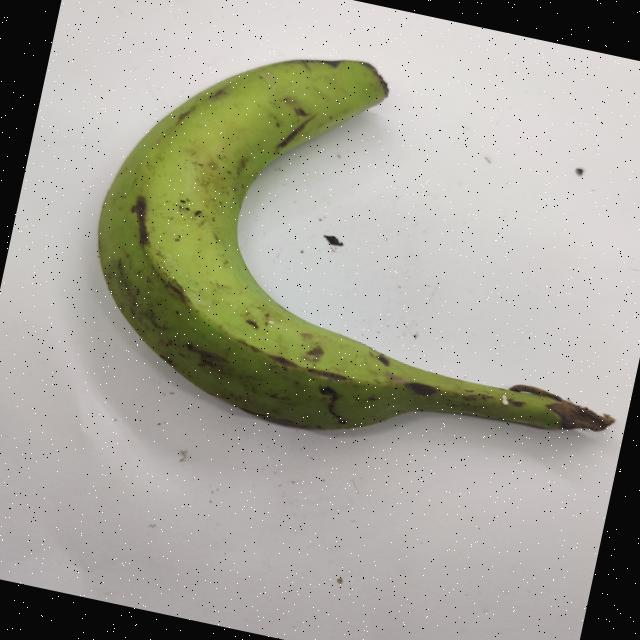Raw: (33, 0, 640, 516)
